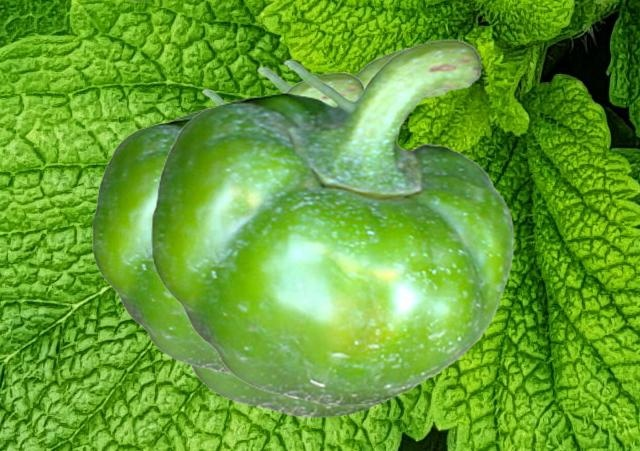bell_pepper: (151, 38, 513, 405), (168, 45, 452, 417), (92, 71, 365, 375)
